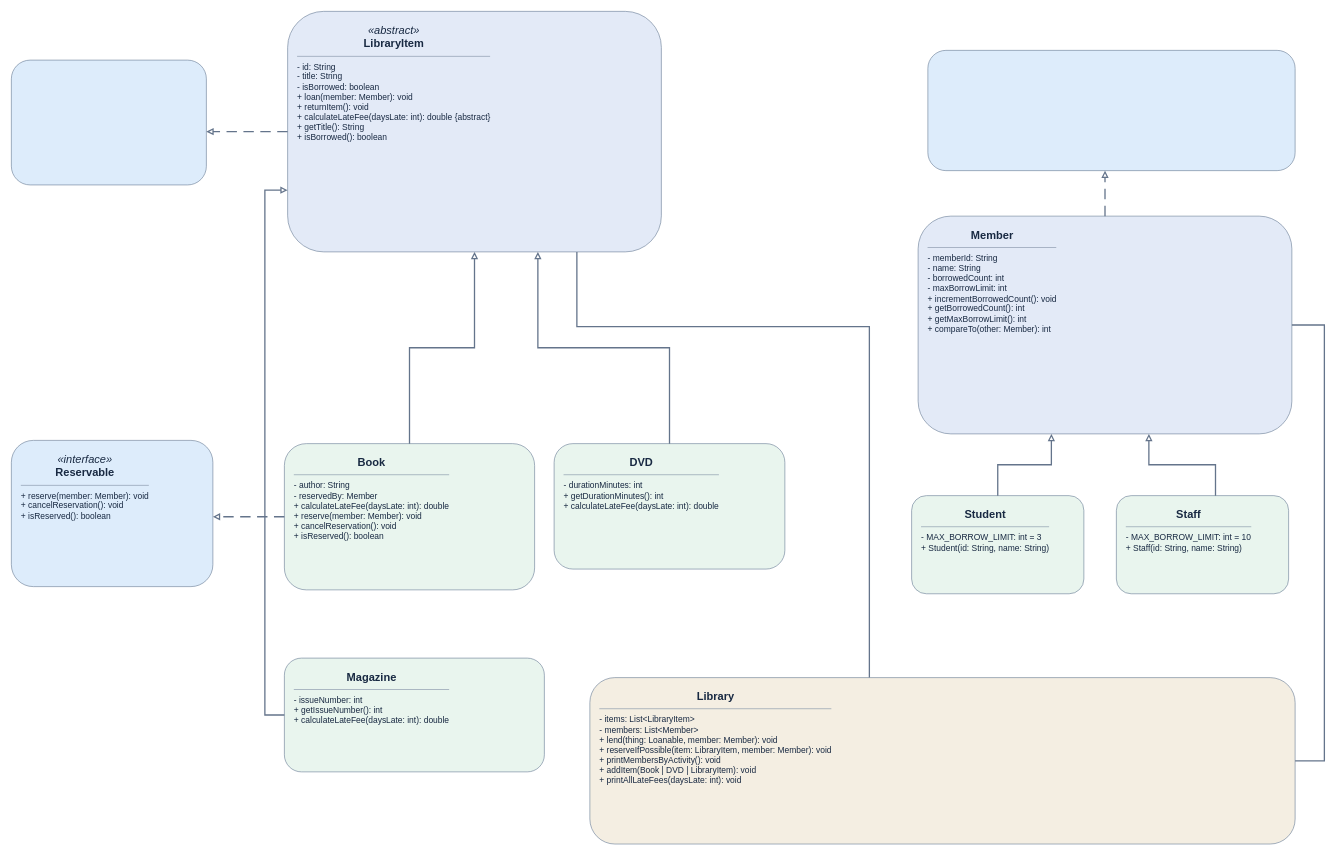
Image size: 1337x855. Some labels were removed from this diagram. Here are the shapes that lost their labels. From the top down, the box of each, then its label:
(11, 59, 206, 185): «interface» Loanable + loan(member: Member): void + returnItem(): void
(927, 50, 1295, 171): «interface» Comparable<Member> + compareTo(other: Member): int
